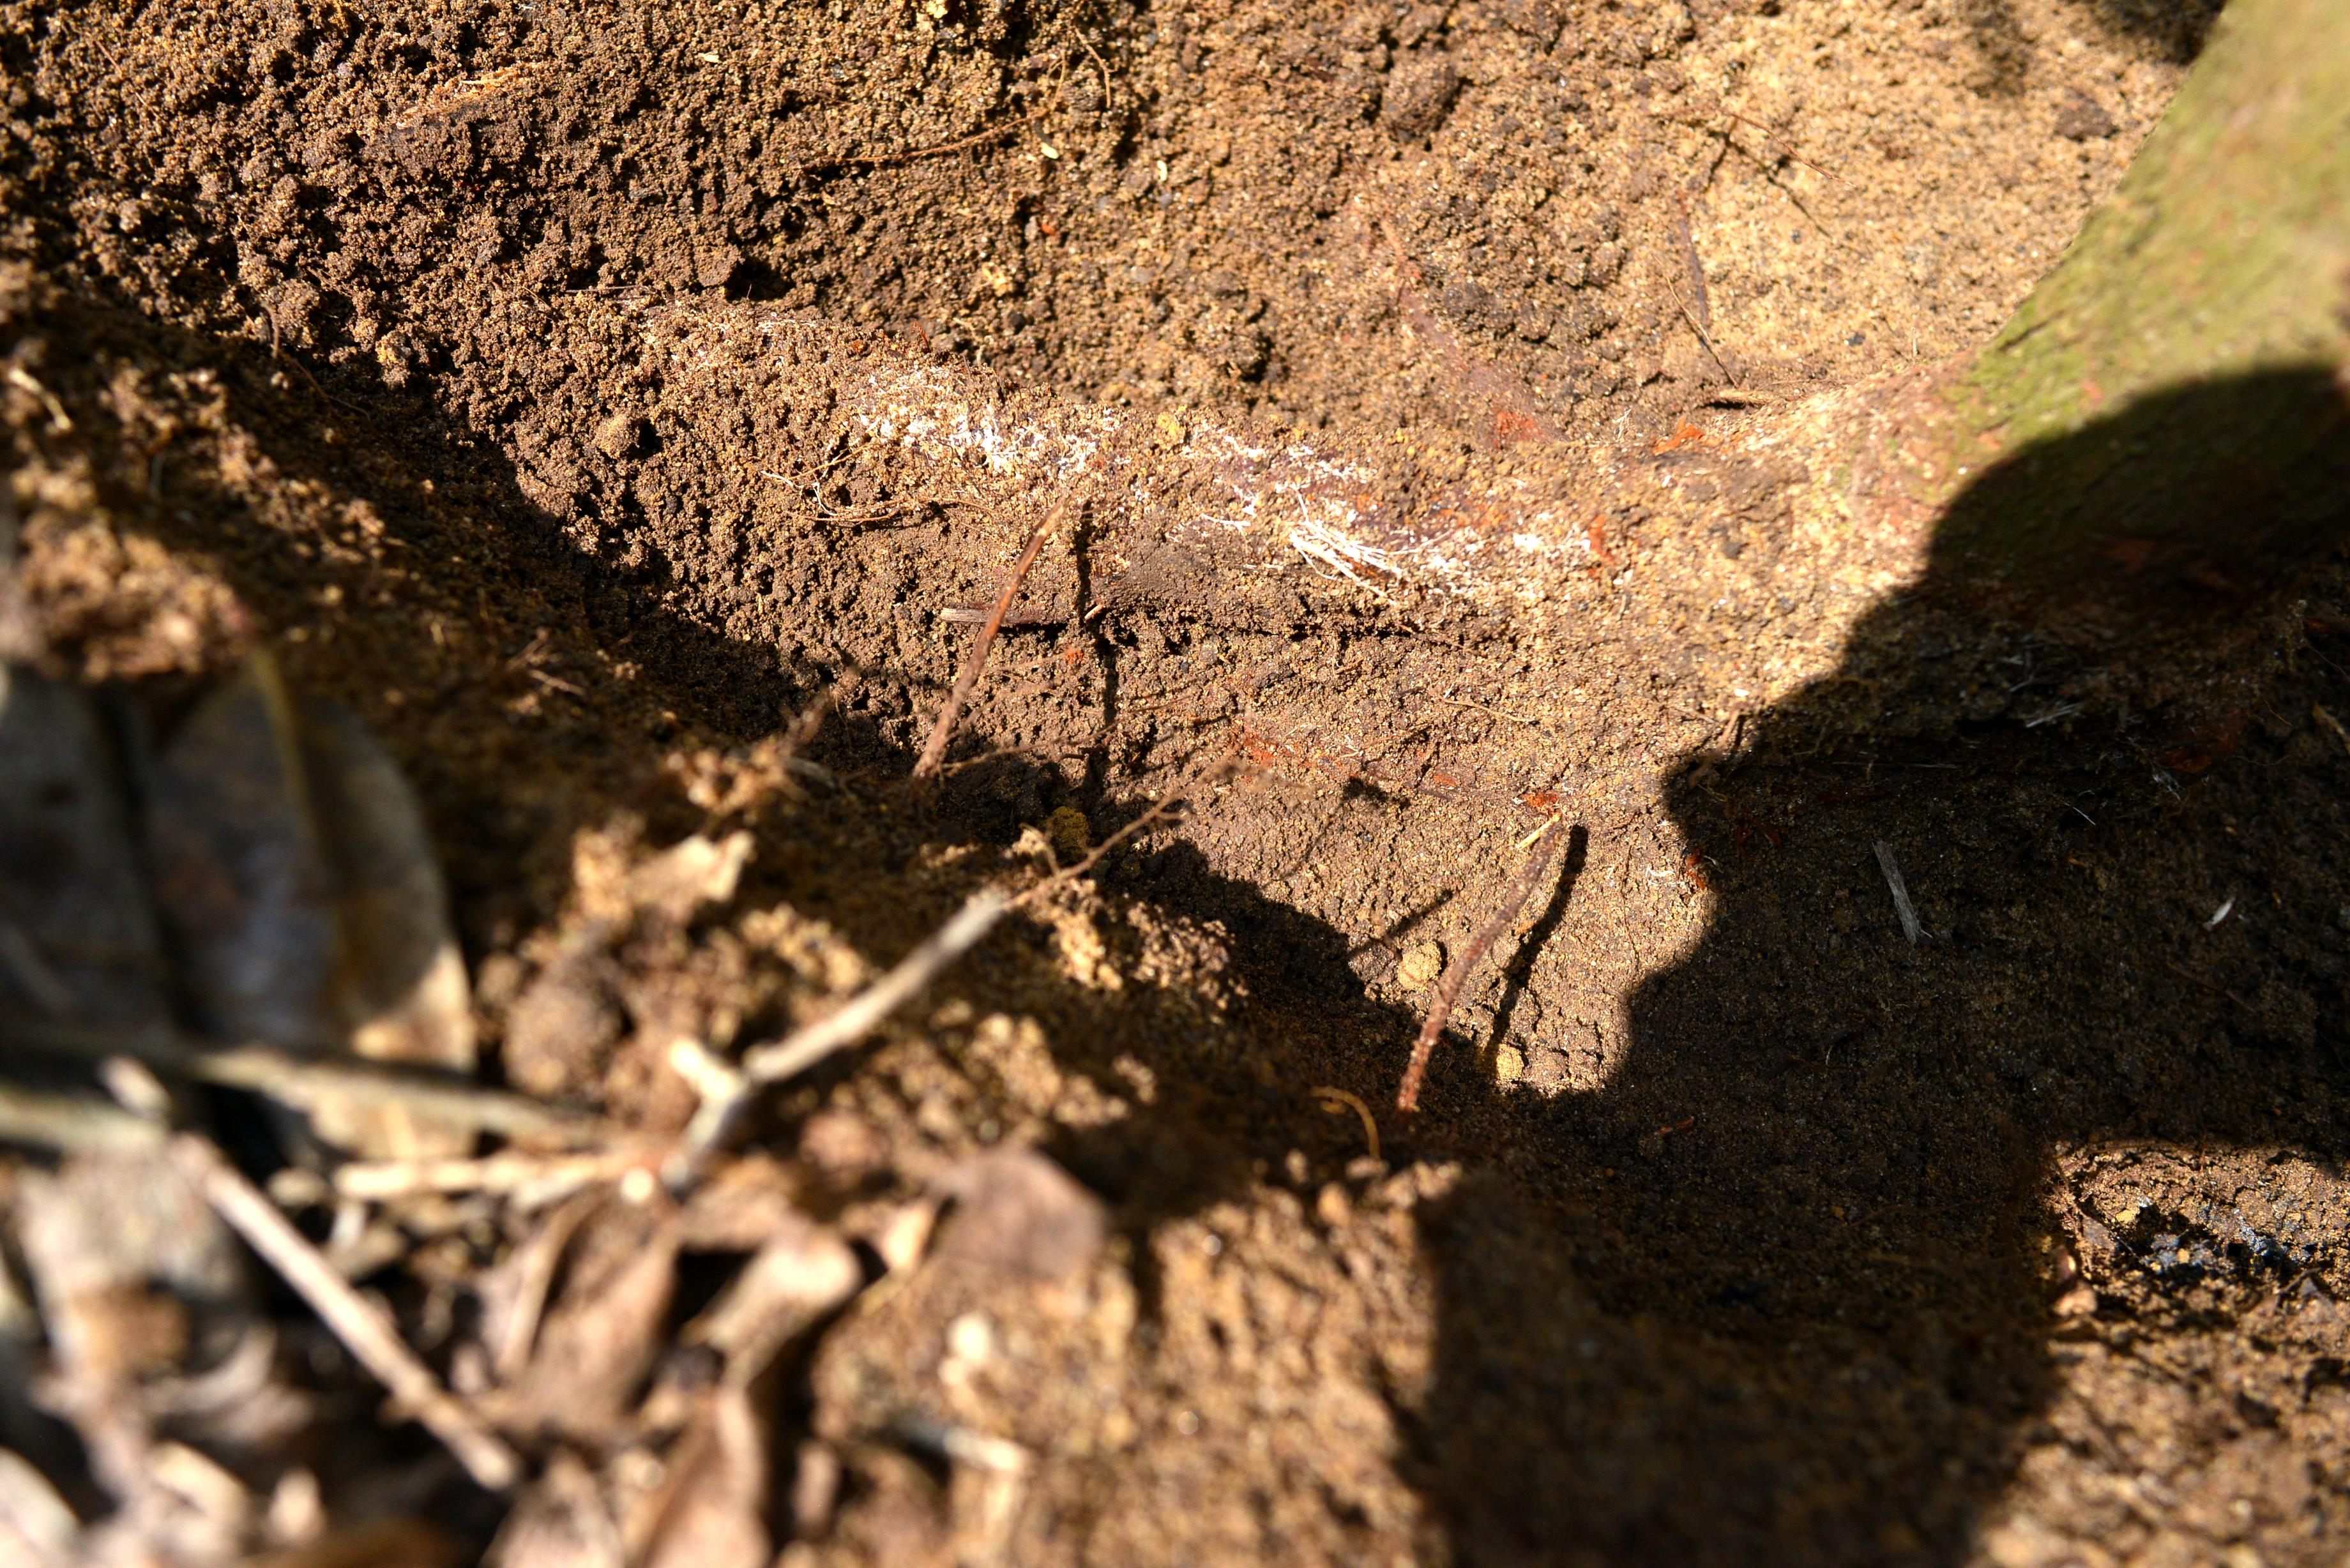Ganoderma - Mycelium: (737, 313, 1613, 612), (1620, 661, 1753, 929), (1960, 667, 2152, 779), (1734, 387, 1851, 485)
Red Root Rot - Secretion: (1514, 763, 1584, 852), (1195, 738, 1286, 784)
